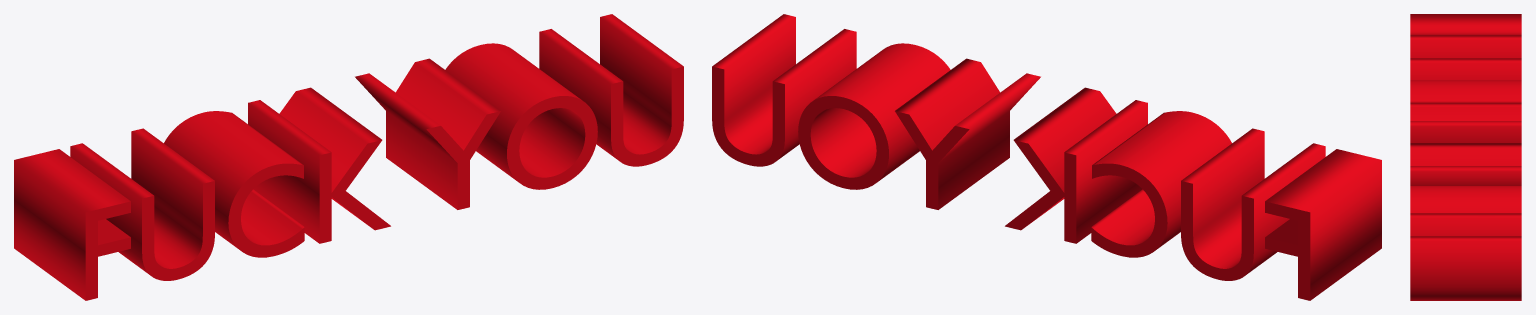
Rendered from Wrath1.fbx.
3 views of the same model, side by side, from view 1: azimuth 30°, elevation 25°; view 2: azimuth 150°, elevation 25°; view 3: azimuth 270°, elevation 25° (orthographic). The views are drawn at different scales.
Parts seen in each view (by area): view 1: Text; view 2: Text; view 3: Text.
Part boxes in pixels (x1=…): Text: x1=14, y1=14, x2=683, y2=300; Text: x1=712, y1=14, x2=1381, y2=300; Text: x1=1410, y1=14, x2=1521, y2=300.
Size of the model in its own units: 482 by 70 by 100.
